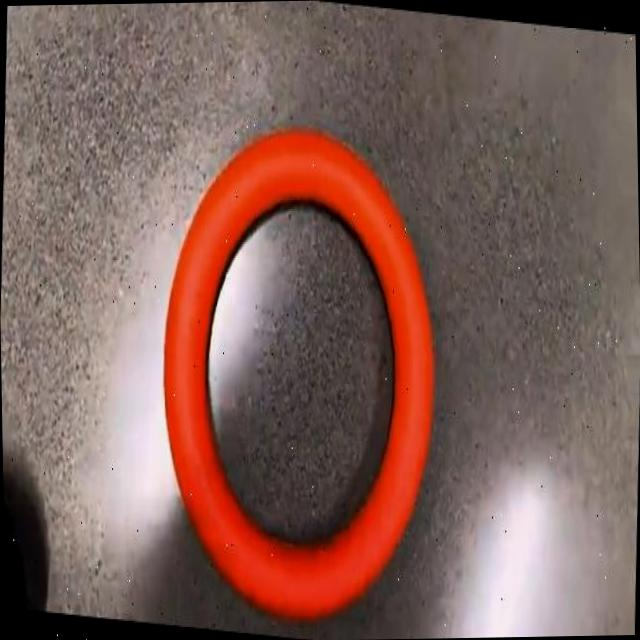note: (163, 128, 433, 618)
